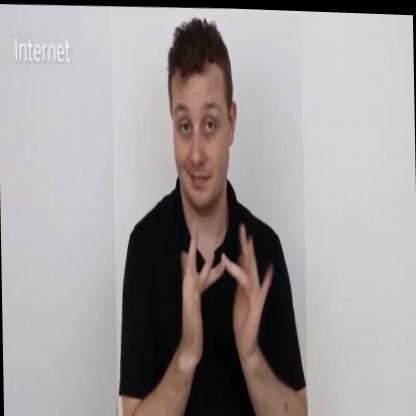Internet: (110, 6, 307, 416)
